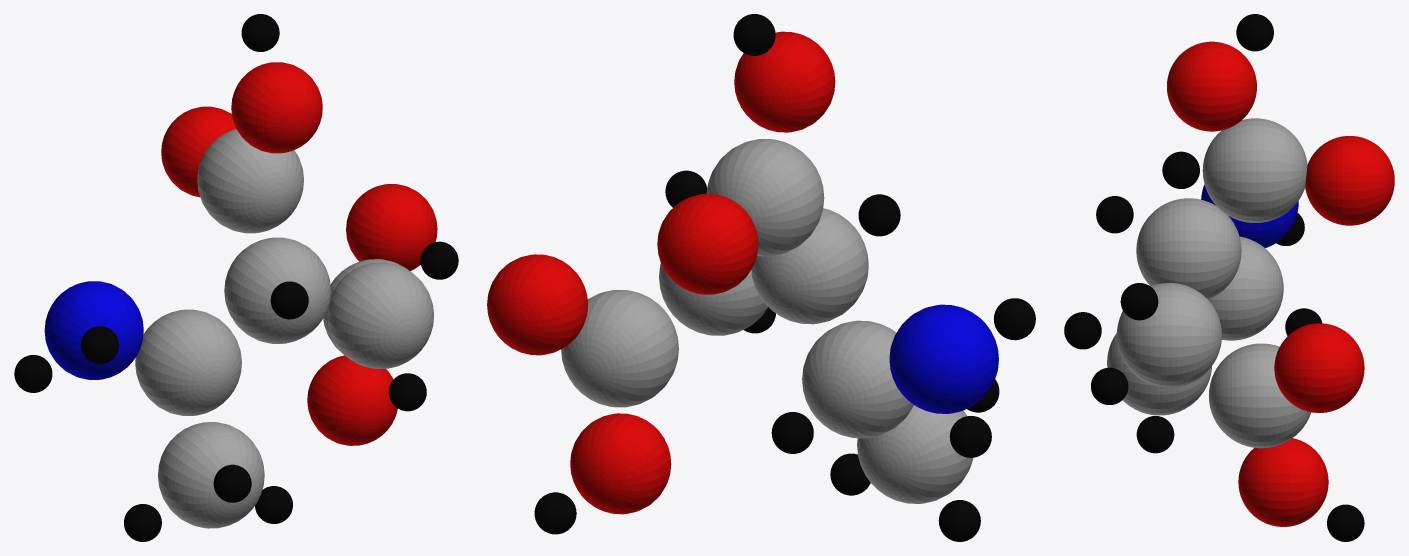
The model's file is Glutamic Acid.glb.
The picture shows the model from 3 angles, left to right: view 1: azimuth 30°, elevation 25°; view 2: azimuth 150°, elevation 25°; view 3: azimuth 270°, elevation 25°; orthographic projection. The views are drawn at different scales.
Visible parts, largest first — view 1: world; view 2: world; view 3: world.
Part boxes in pixels (box(x1,y1,x2,y2)): world: box(14, 14, 458, 541); world: box(487, 14, 1035, 541); world: box(1064, 14, 1394, 541).
Bounding box in the file's own units: 6.53 × 6.75 × 4.4.
